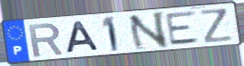1: (100, 15, 121, 52)
A: (65, 20, 101, 55)
E: (164, 10, 202, 47)
N: (126, 10, 170, 52)
R: (27, 22, 66, 59)
Z: (198, 7, 236, 44)
